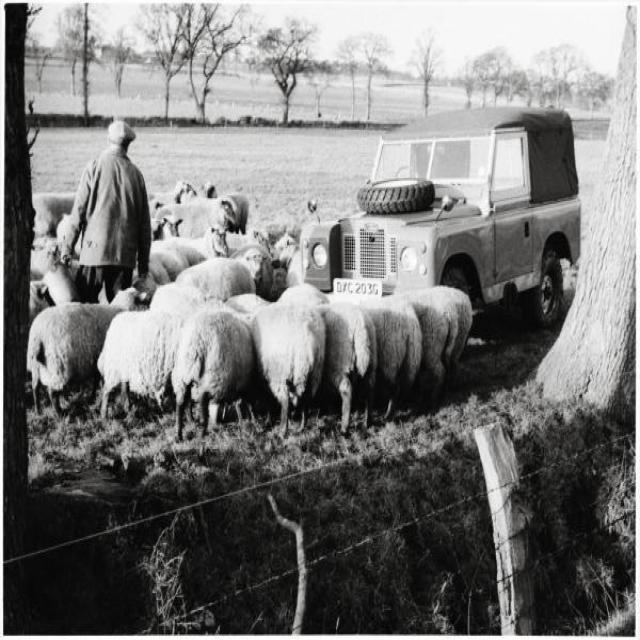Sheep: (22, 188, 310, 334), (28, 288, 146, 418), (254, 281, 336, 440), (330, 292, 420, 421), (170, 308, 255, 437), (95, 310, 188, 424), (316, 302, 378, 439), (416, 291, 481, 406), (172, 177, 237, 225), (204, 182, 248, 234)
